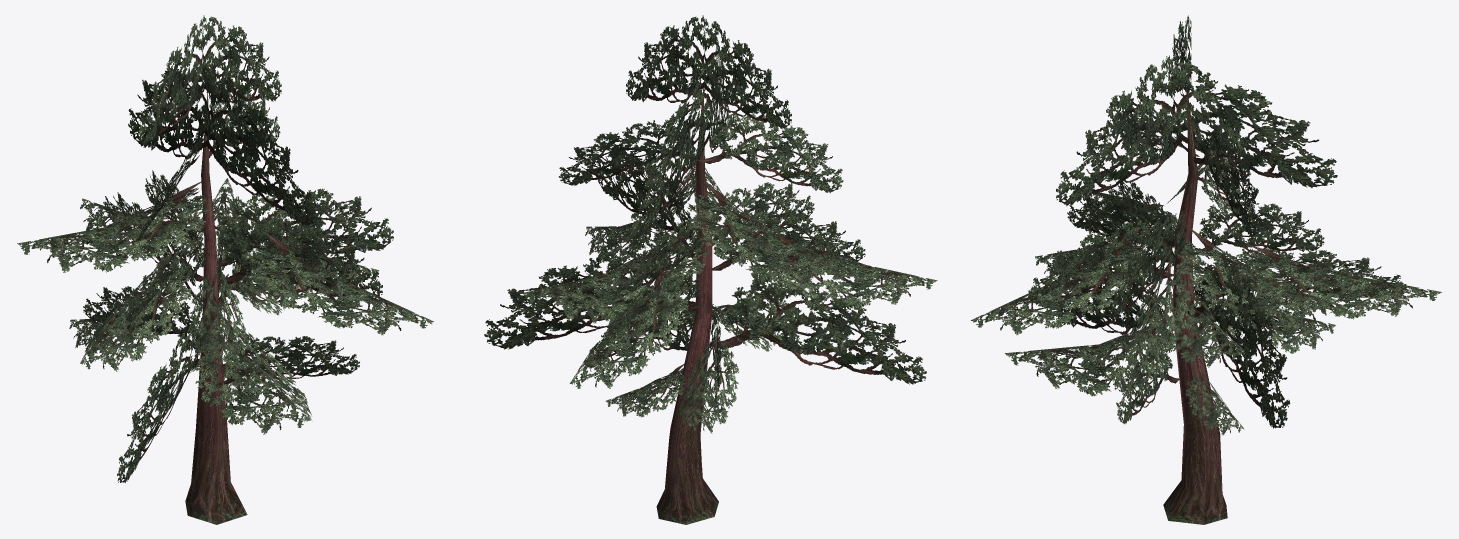
The model's file is tre_pine07_02.glb.
The picture shows the model from 3 angles, left to right: view 1: azimuth 30°, elevation 25°; view 2: azimuth 150°, elevation 25°; view 3: azimuth 270°, elevation 25°; orthographic projection.
Parts seen in each view (by area): view 1: tre_pine07_02; view 2: tre_pine07_02; view 3: tre_pine07_02.
Boxes of the visible parts, x1,y1,x2,y2 form: tre_pine07_02: [17, 15, 434, 524]; tre_pine07_02: [484, 15, 937, 524]; tre_pine07_02: [970, 15, 1442, 524].
Size of the model in its own units: 22.87 by 30.35 by 26.7.
2 materials, 2 textured.
